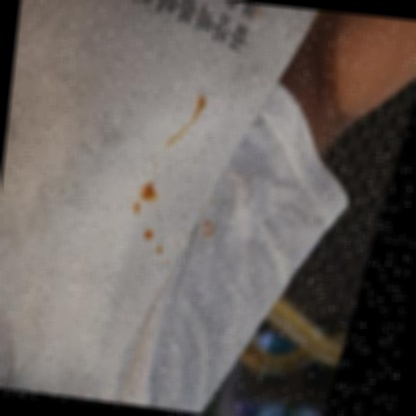kimchi: (153, 87, 210, 162), (126, 178, 162, 221), (196, 214, 220, 239), (157, 260, 172, 275), (139, 230, 155, 243), (151, 239, 163, 256), (148, 157, 160, 170), (195, 199, 205, 213)
